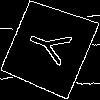Y: (24, 23, 82, 71)
